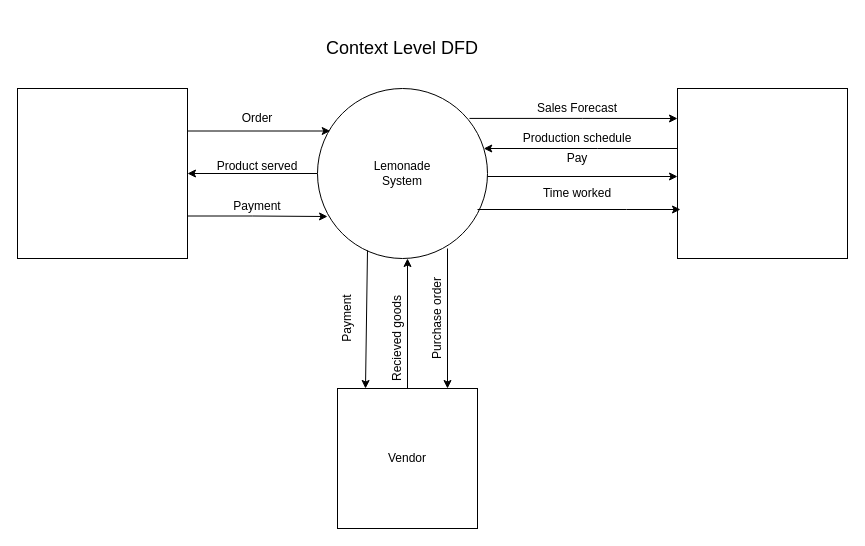
The diagram is 865 pixels wide and 546 high, and some of its shapes have lost their labels. The centre of each missing label's shape, as x and y in pixels:
Costumer: the point at 102,173
Employee: the point at 762,173
